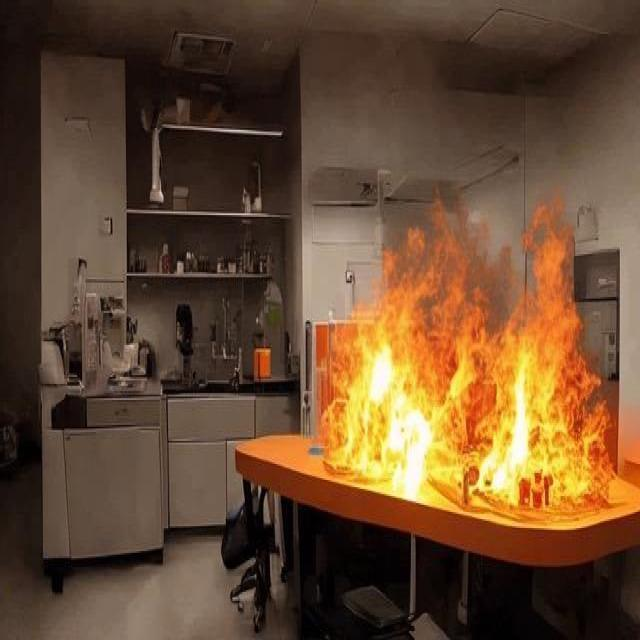smoke: (320, 178, 618, 518)
